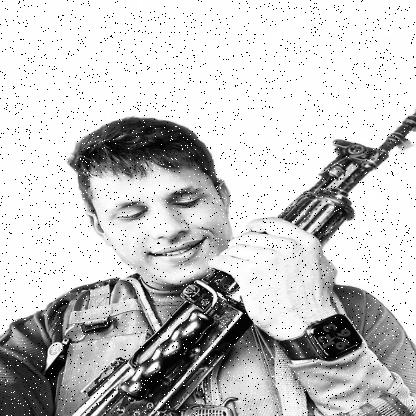rifle: (71, 112, 415, 416)
